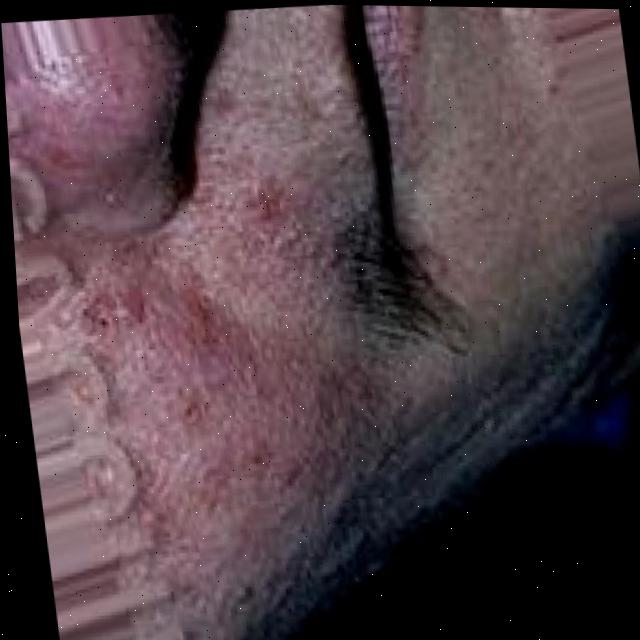Rosacea: (106, 323, 325, 529), (13, 56, 133, 171)
